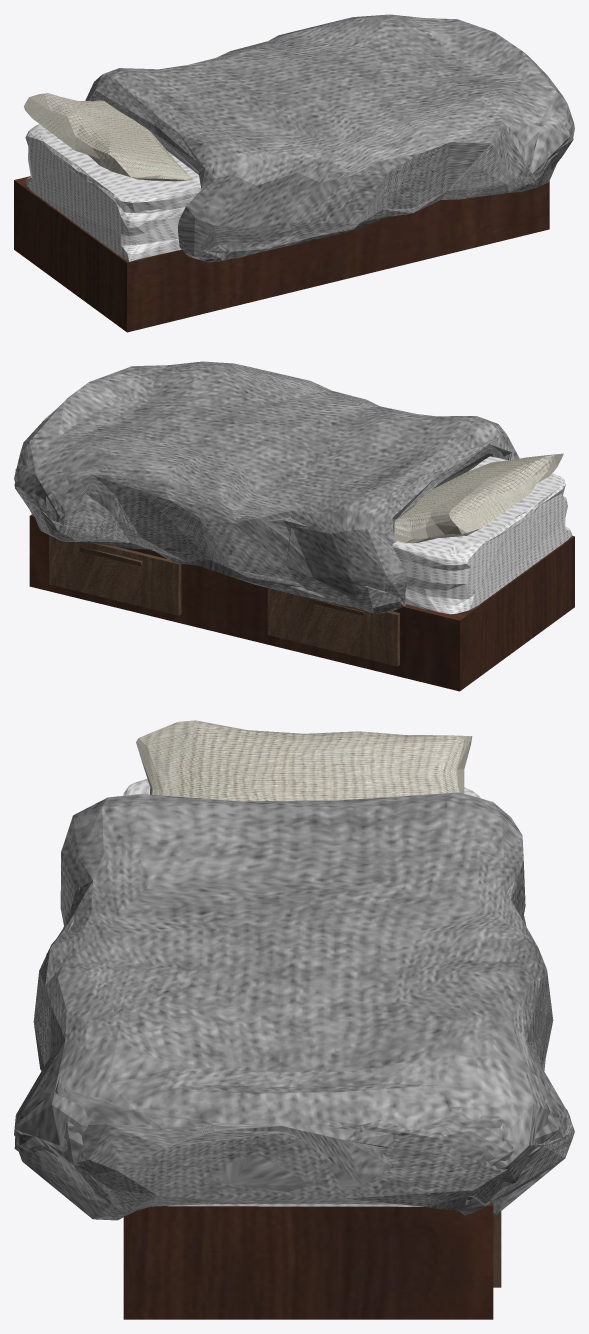
File: Bed.fbx
3 views of the same model, one above another, from view 1: azimuth 30°, elevation 25°; view 2: azimuth 150°, elevation 25°; view 3: azimuth 270°, elevation 25° (orthographic). The views are drawn at different scales.
Parts seen in each view (by area): view 1: Cube; view 2: Cube; view 3: Cube.
Part boxes in pixels (left/top/right/bottom): Cube: left=14, top=14, right=574, bottom=332; Cube: left=14, top=361, right=574, bottom=691; Cube: left=14, top=720, right=574, bottom=1319.
Bounding box in the file's own units: 673 × 228 × 438.
